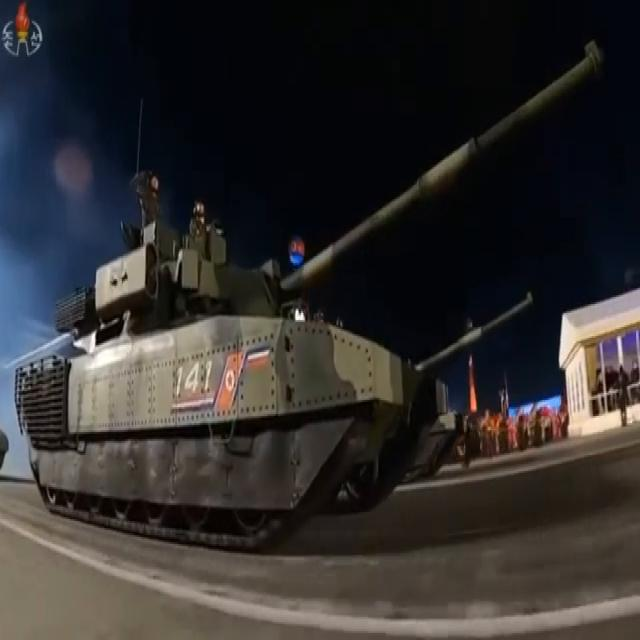north tank: (15, 33, 612, 526)
